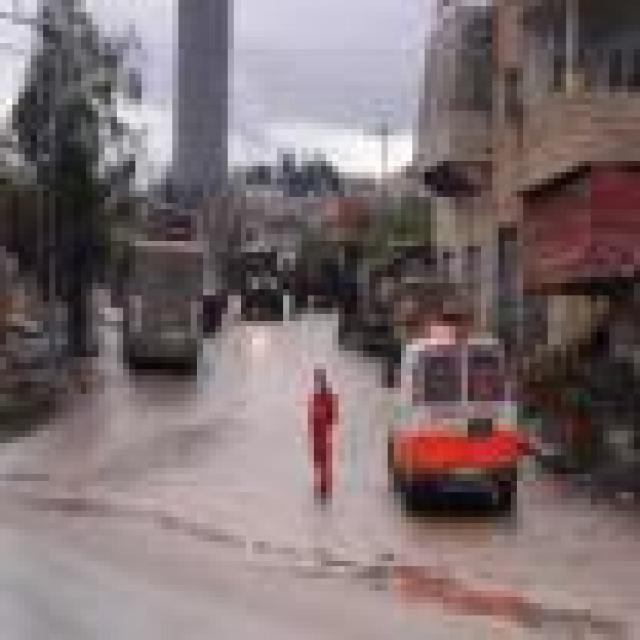emergency-vehicle: (391, 314, 526, 498)
